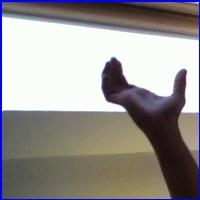space: (91, 51, 192, 131)
